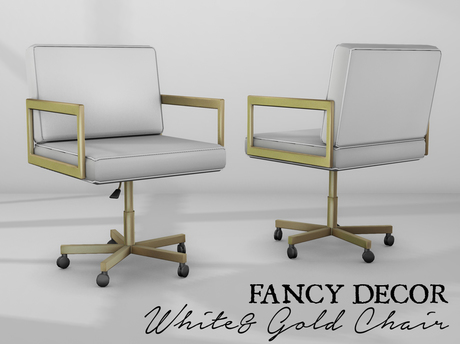chairs: (21, 41, 230, 292), (244, 36, 442, 265)
